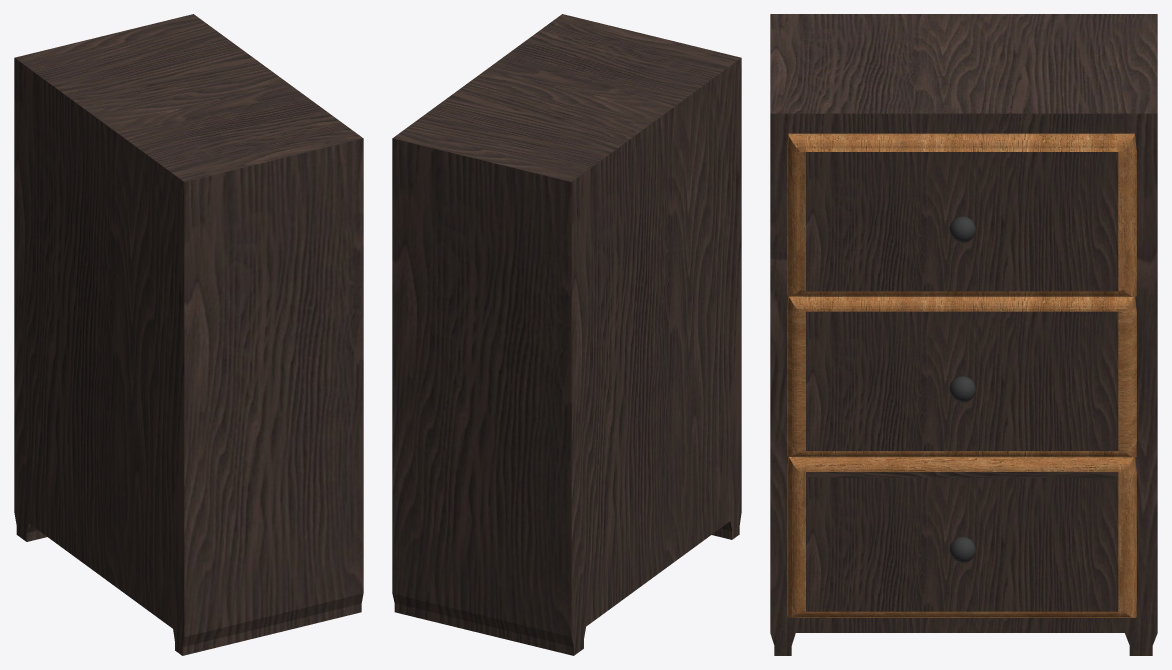
File: dresser.glb
The picture shows the model from 3 angles, left to right: view 1: azimuth 30°, elevation 25°; view 2: azimuth 150°, elevation 25°; view 3: azimuth 270°, elevation 25°; orthographic projection. The views are drawn at different scales.
Visible parts, largest first — view 1: Cube; view 2: Cube; view 3: Cube, Cube.001, Cube.002, Cube.003.
Part boxes in pixels (x1,y1,x2,y2): Cube: (14,14,363,655); Cube: (392,14,741,655); Cube: (770,14,1157,655); Cube.001: (787,133,1136,296); Cube.002: (787,296,1136,457); Cube.003: (787,457,1136,617).
Size of the model in its own units: 4.01 by 8.45 by 5.47.
Materials: 3 (2 with a texture image).
